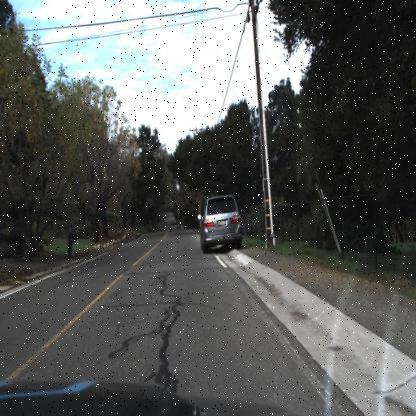car: (189, 182, 246, 263)
